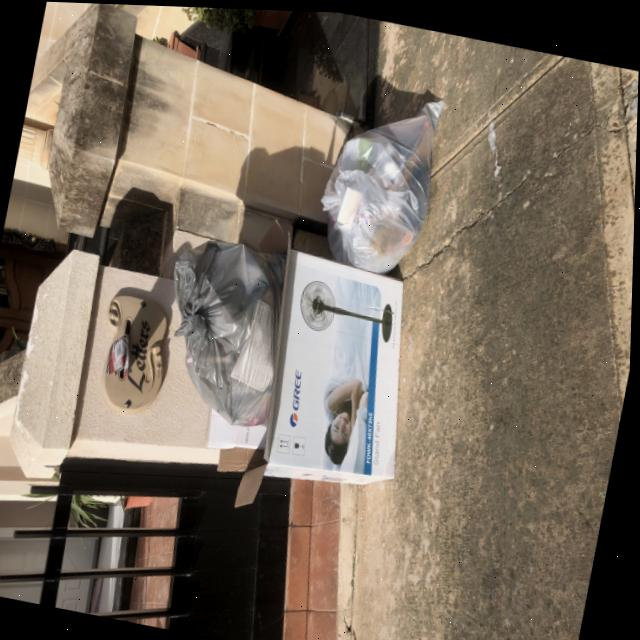Organic Waste -White Bag-: (316, 80, 453, 278)
Other: (256, 242, 442, 496)
Recycled Waste -Grey or Green Bag-: (155, 232, 303, 431)
